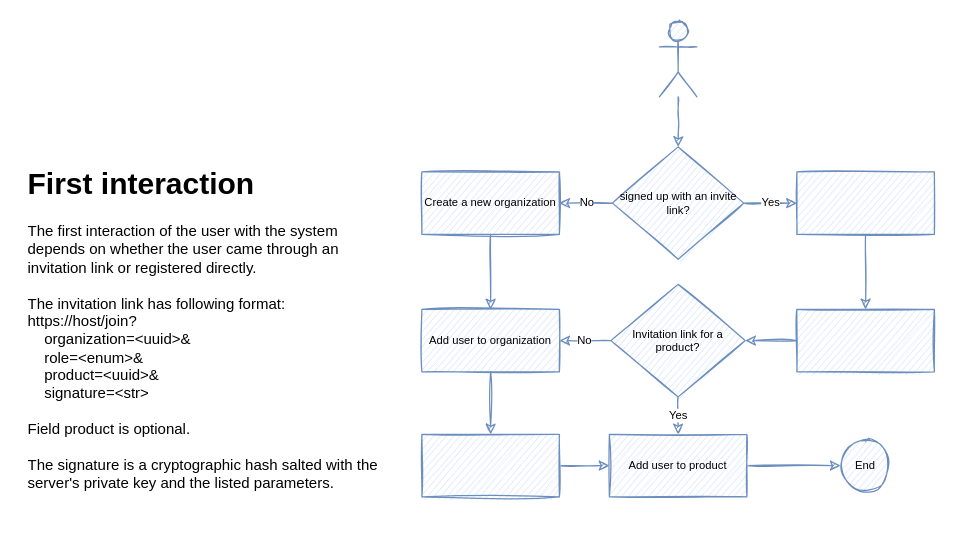
This 956x544 diagram has some shape labels left out. The centre of each missing label's shape, as x and y in pixels:
"Add a user a role from an invitation link" belongs at point (865, 202).
"Create a new product" belongs at point (490, 465).
"Join an existing organization" belongs at point (865, 340).
